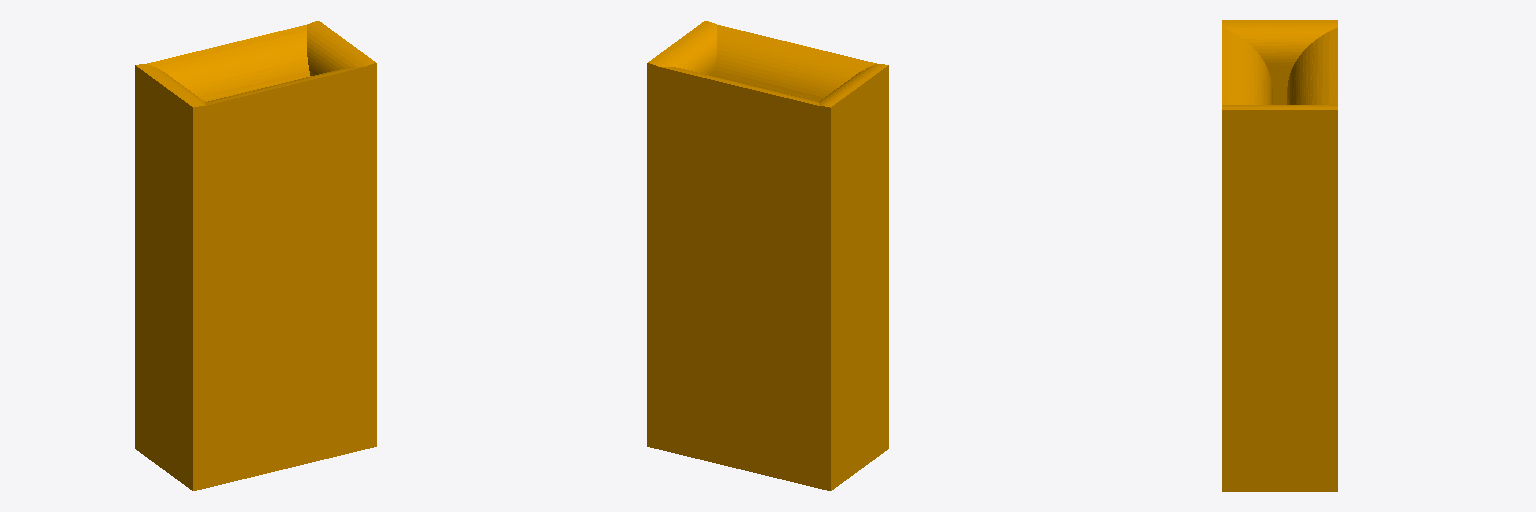
The robot description file, URDF, robot "holder_metal":
<?xml version="1.0"?>
<robot name="holder_metal"> 
  <link name="base_link">
  <contact>
      <lateral_friction value="1"/>
  </contact>
    <inertial>
      <origin xyz="0 0 0" rpy="0 0 0" />
      <mass value="0.0129" /> 
      <inertia ixx="0" ixy="0" ixz="0" iyy="0" iyz="0" izz="0" />
    </inertial>
    <visual>
      <origin xyz="0 0 0" rpy="0 0 0" />
      <geometry>
          <mesh filename="knife_holder_metal.obj"/>
      </geometry>
      <material name="grey">
        <color rgba="0.8, 0.8, 0.8, 1" />
      </material>
    </visual>
    <collision>
      <origin xyz="0 0 0" rpy="0 0 0" />
      <geometry>
          <mesh filename="knife_holder_metal.obj"/>
      </geometry>
    </collision>
  </link>
</robot>

--- Facts derived from the render (not from the file) ---
3 views of the same robot in one strip: view 1: azimuth 30°, elevation 25°; view 2: azimuth 150°, elevation 25°; view 3: azimuth 270°, elevation 25° (orthographic).
Model holder_metal with 1 links and 0 joints (none), rooted at base_link, posed all joints at 0.
Visible links, largest first — view 1: base_link; view 2: base_link; view 3: base_link.
Link boxes in pixels (<box>): base_link: <box>135,21,376,490</box>; base_link: <box>647,21,888,490</box>; base_link: <box>1222,20,1337,491</box>.
Bounding box of the posed robot: 0.03 × 0.0164 × 0.06 m (x, y, z).
Meshes: 1 distinct files referenced, 1 mesh visuals loaded (1 OBJ).